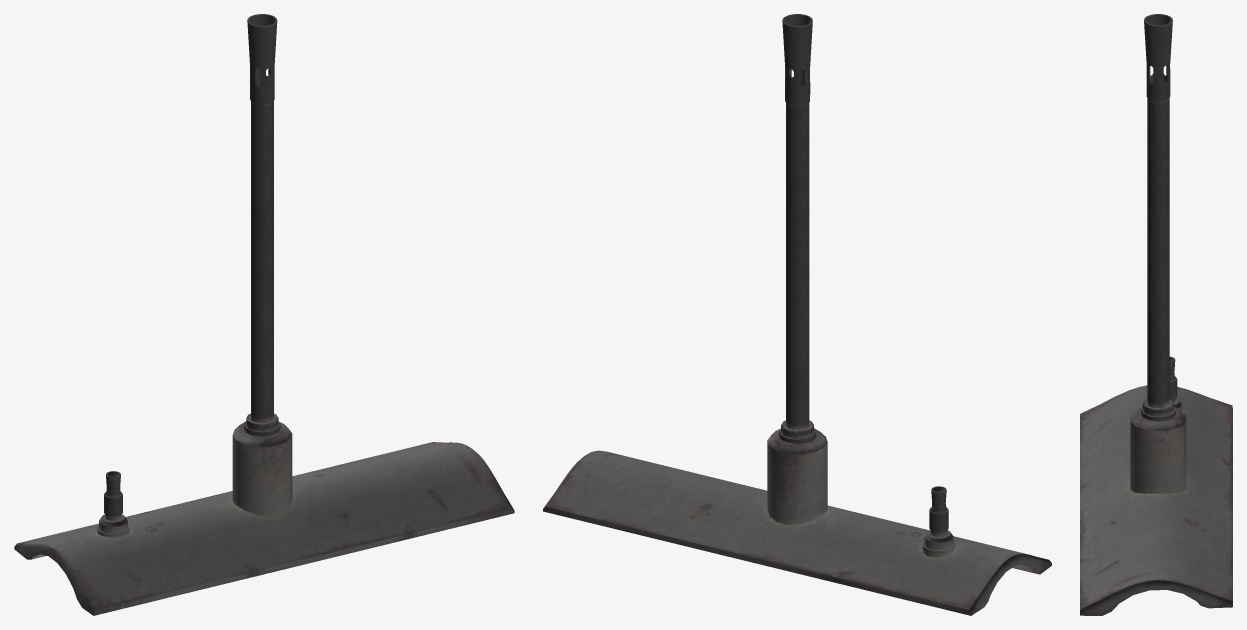
Rendered from Gun_01.glb.
The picture shows the model from 3 angles, left to right: view 1: azimuth 30°, elevation 25°; view 2: azimuth 150°, elevation 25°; view 3: azimuth 270°, elevation 25°; orthographic projection. The views are drawn at different scales.
Visible parts, largest first — view 1: set_0_group_0; view 2: set_0_group_0; view 3: set_0_group_0.
Boxes of the visible parts, box(x1,y1,x2,y2) form: set_0_group_0: box(14, 14, 514, 615); set_0_group_0: box(543, 14, 1051, 615); set_0_group_0: box(1080, 14, 1232, 615).
Size of the model in its own units: 1.11 by 1.3 by 0.3635.
Materials: 1 (1 with a texture image).
